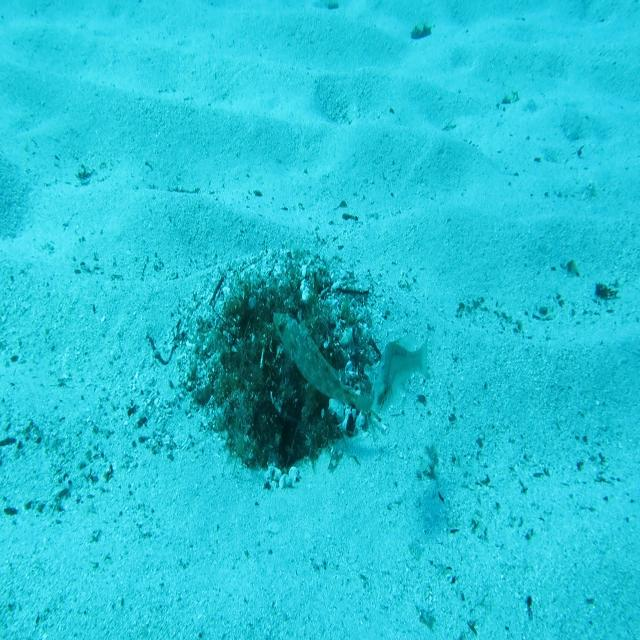FAN: (272, 309, 375, 421)
core_nest: (252, 302, 306, 331)
female: (370, 332, 431, 417)
nest: (170, 244, 392, 496)
vegetation: (409, 22, 434, 43)
